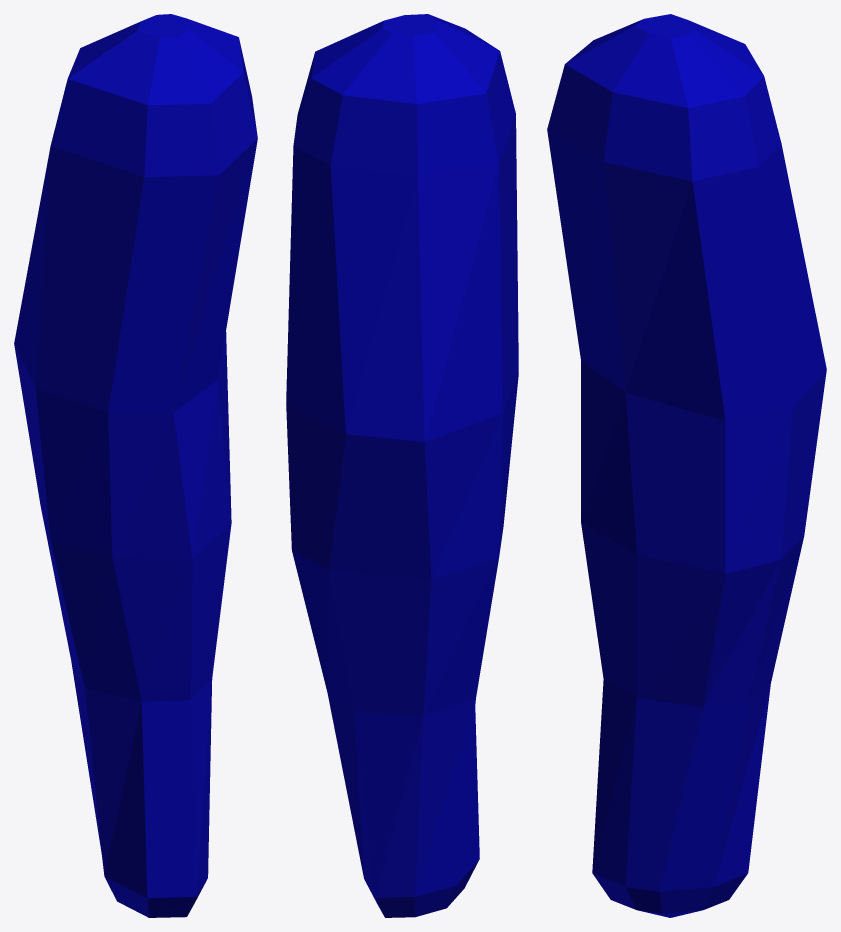
Rendered from RCalf_mesh.dae.
3 renders of one model, left to right at view 1: azimuth 30°, elevation 25°; view 2: azimuth 150°, elevation 25°; view 3: azimuth 270°, elevation 25°, orthographic.
Parts seen in each view (by area): view 1: RCalf; view 2: RCalf; view 3: RCalf.
Part boxes in pixels (x1,y1,x2,y2): RCalf: (14,14,257,917); RCalf: (286,14,518,917); RCalf: (547,14,826,917).
Bounding box in the file's own units: 0.1067 × 0.4283 × 0.1214.
